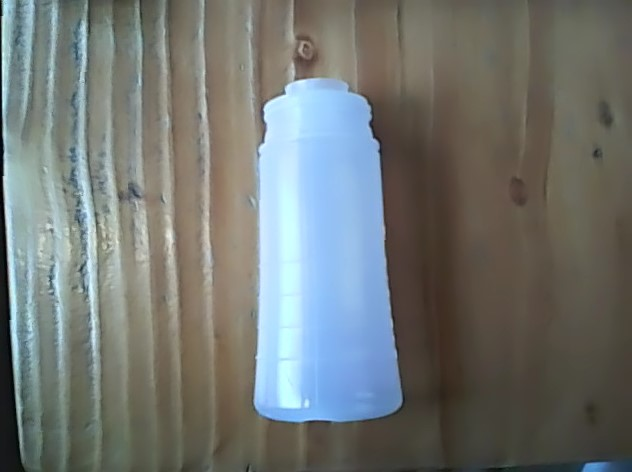Plastic: (243, 71, 411, 427)
